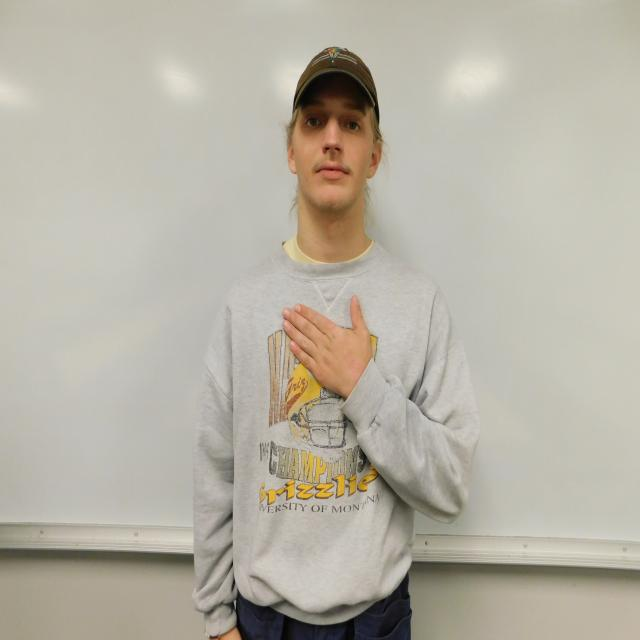my: (283, 295, 372, 394)
